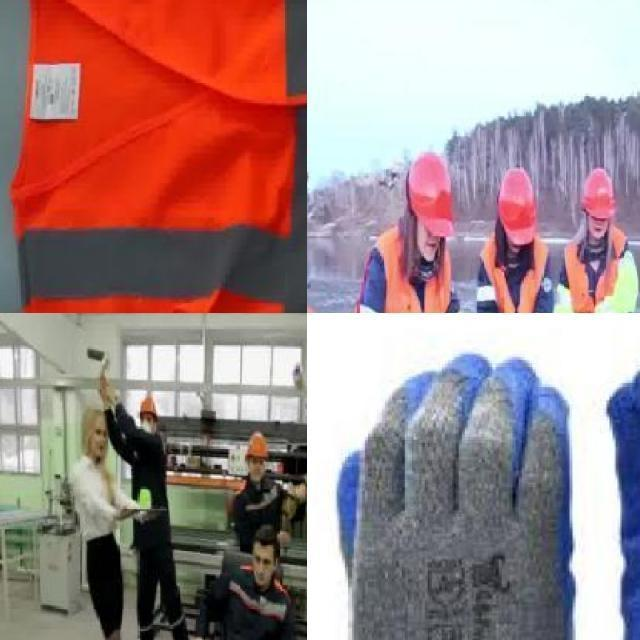apron: (326, 352, 597, 640)
